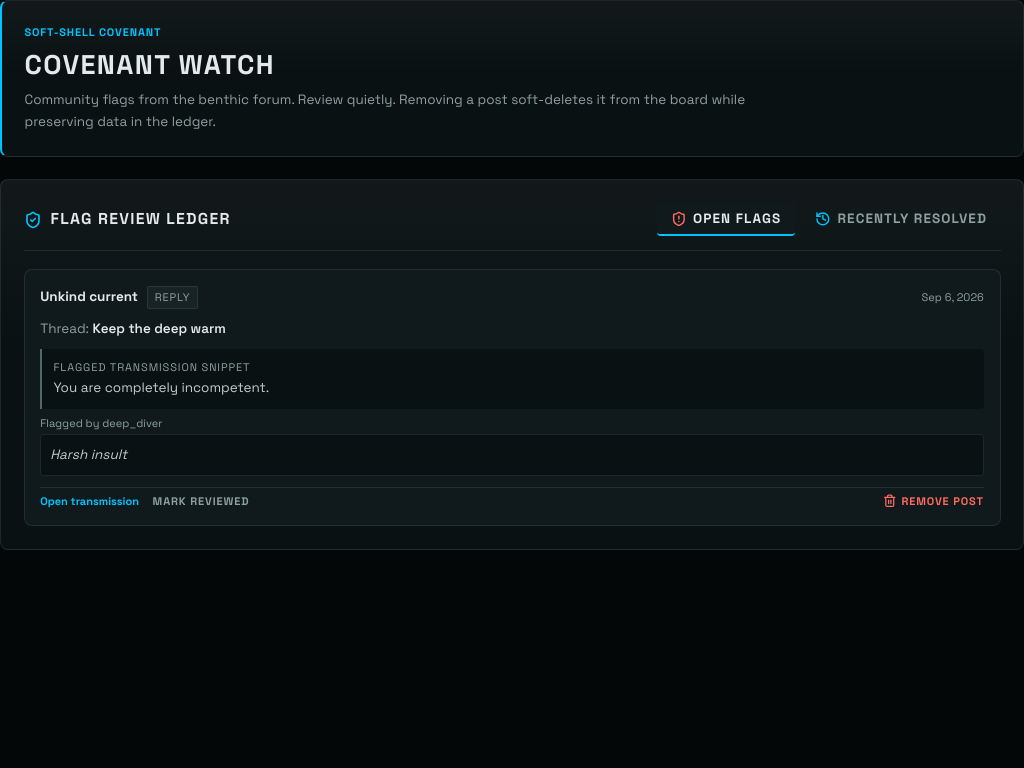
CovenantWatchPage › allows removing a flagged post with confirmation
The image size is (1024, 768).
Expected: the text "Remove post" is shown, [901,493,984,509]
Clicking remove brings up inline confirmation
Click the button with test id "covenant-watch-remove-target". click: [934, 501]
box: [883,493,984,509]
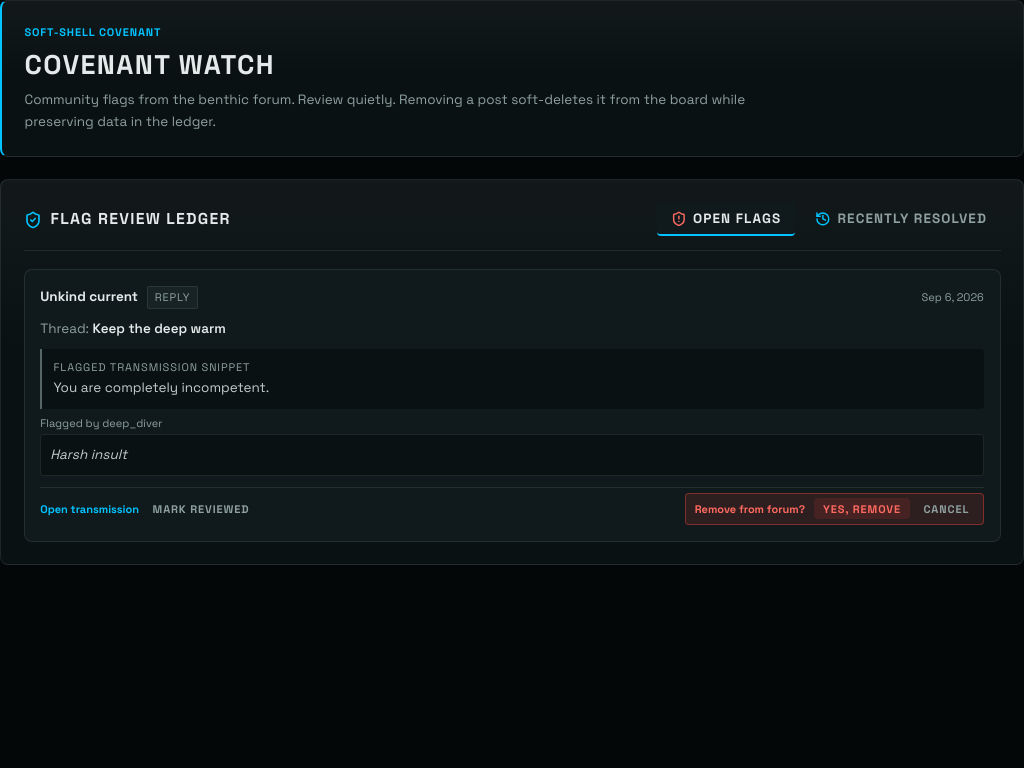
Now the text "Remove from forum?" is shown, box [695,501,805,517]
Now the button with test id "covenant-watch-confirm-remove" is shown
Confirm remove
Click the button with test id "covenant-watch-confirm-remove". click: [862, 509]
box: [814,498,910,519]
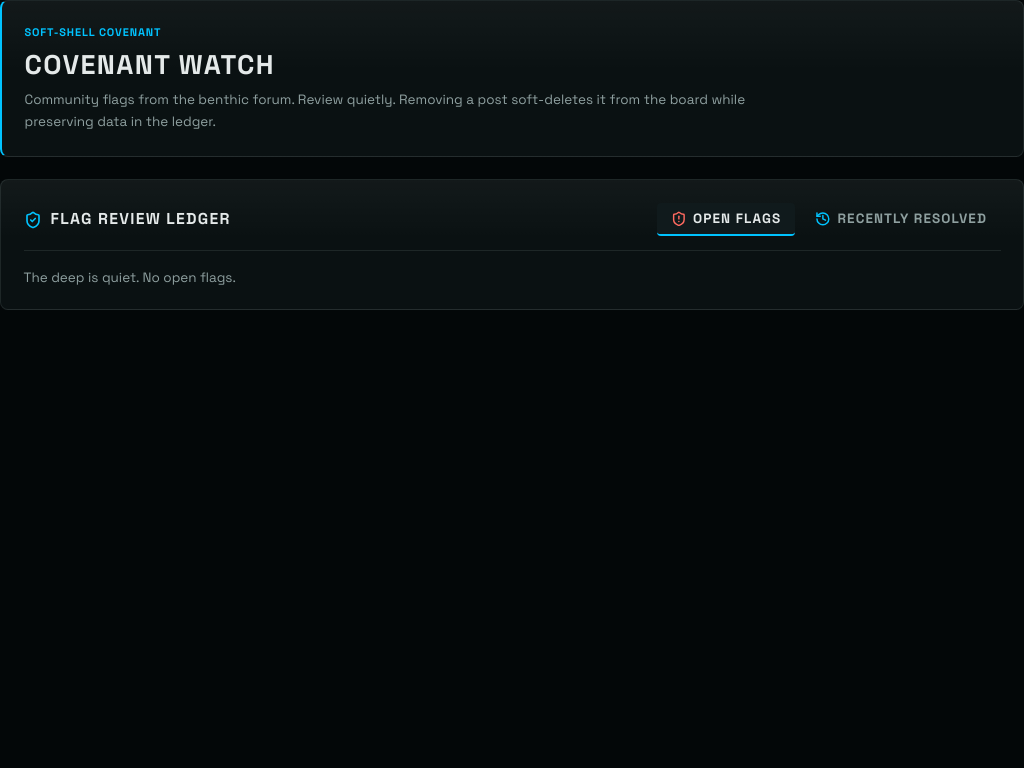
Now the text with test id "covenant-watch-empty" reads "The deep is quiet. No open flags.", box [24,269,236,286]
